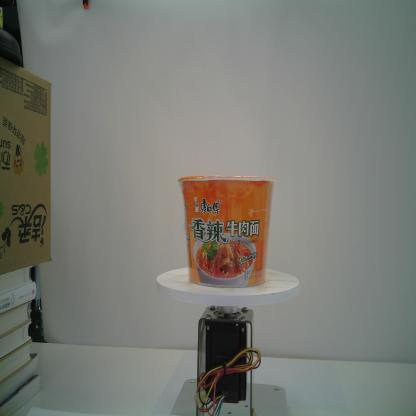Instant Noodles: (178, 173, 277, 290)
